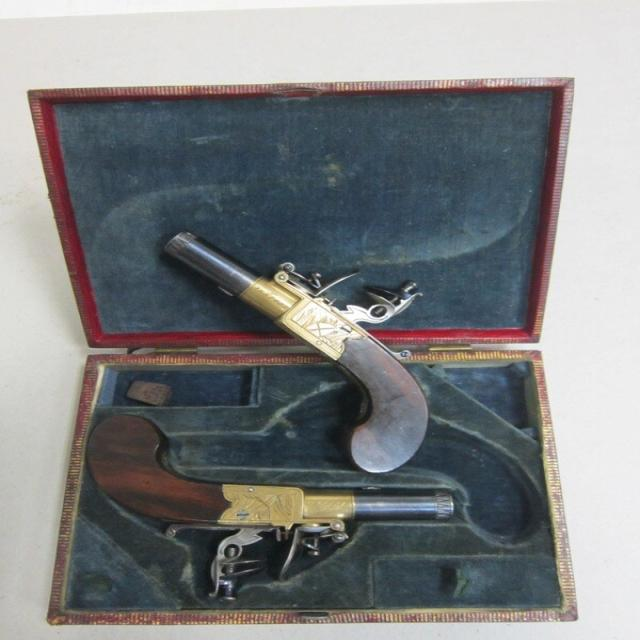pistol: (84, 414, 455, 601), (170, 232, 430, 471)
